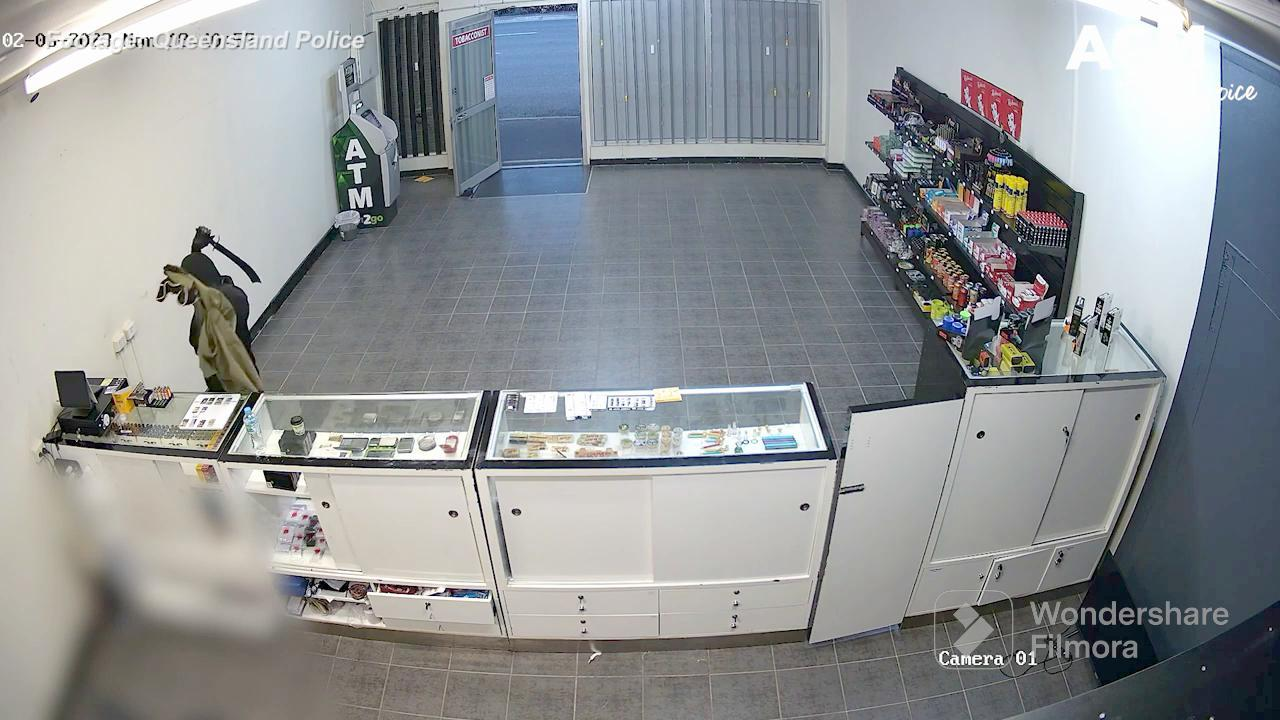melee: (192, 226, 264, 286)
